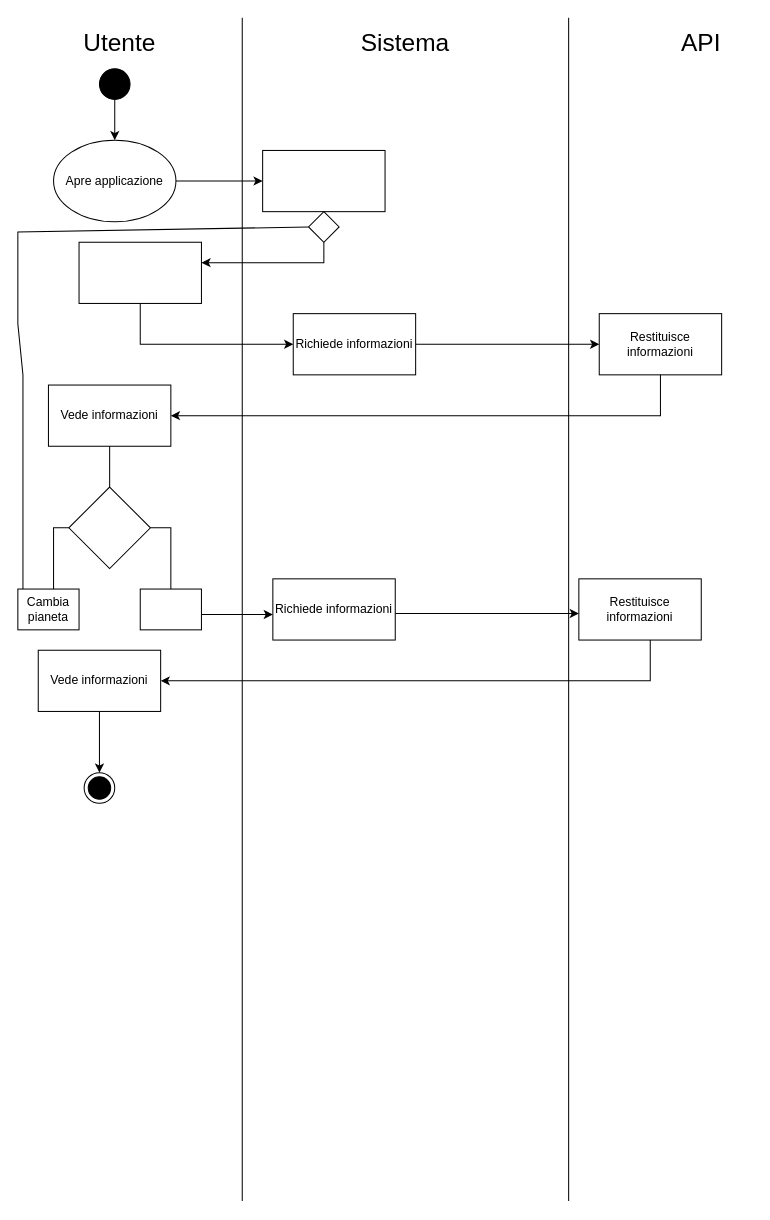
Image size: 770x1220. Some labels were removed from this diagram. The shapes that lost their labels are listed below. From the top down, each one's box as (x1, y1, x2, y2) in pixels, then its label:
(262, 149, 385, 212): Mostra sistema solare
(78, 241, 201, 303): Seleziona pianeta
(68, 486, 150, 569): Gli piace?
(139, 588, 201, 630): Guarda l'immagine del giorno
